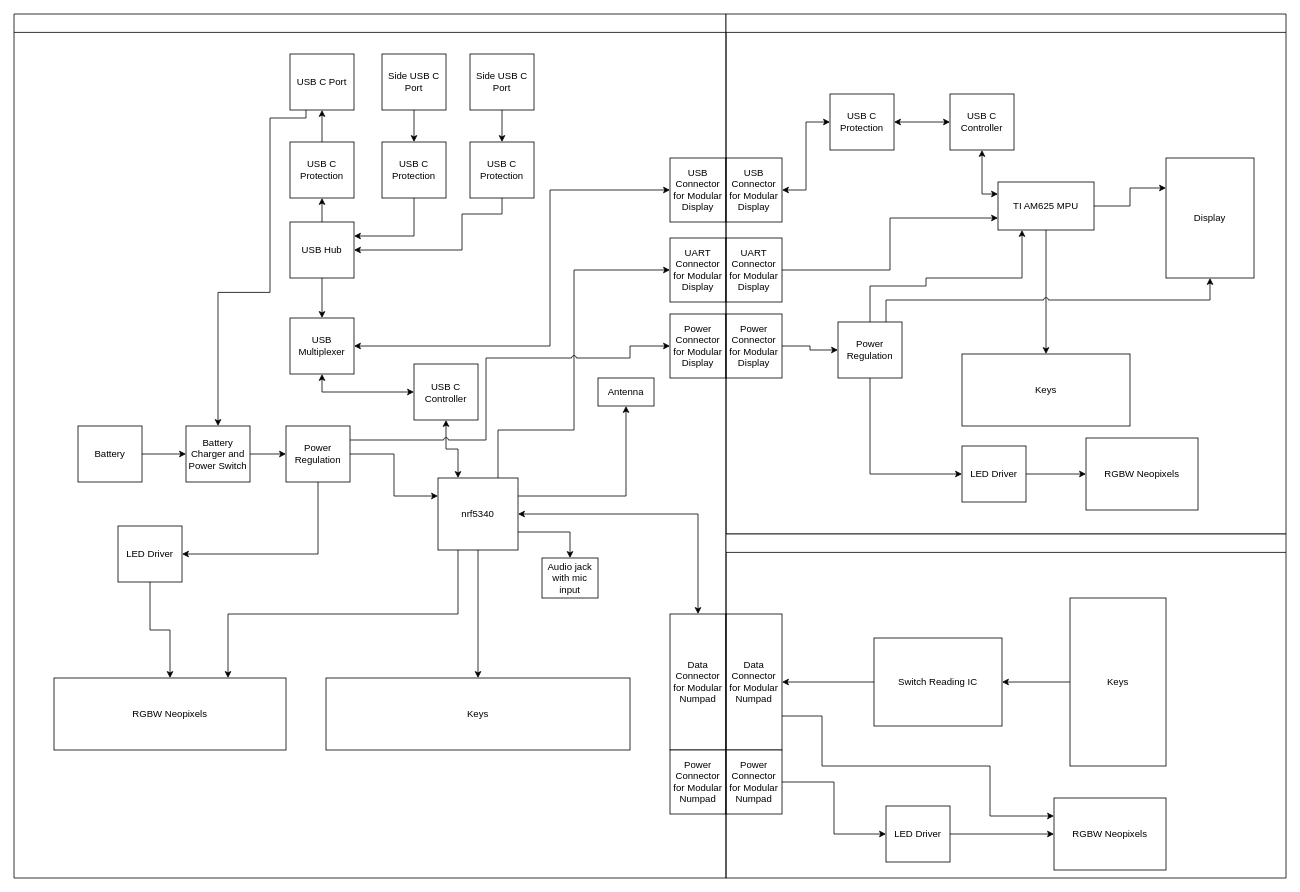
Some shapes in this 1300 by 892 pixel diagram are drawn without their labels. Here are the shapes that lost their labels. From the top down, the centre of each, then its label:
point (1005, 273): Modular Display
point (369, 445): Core
point (1005, 705): Modular Numpad
